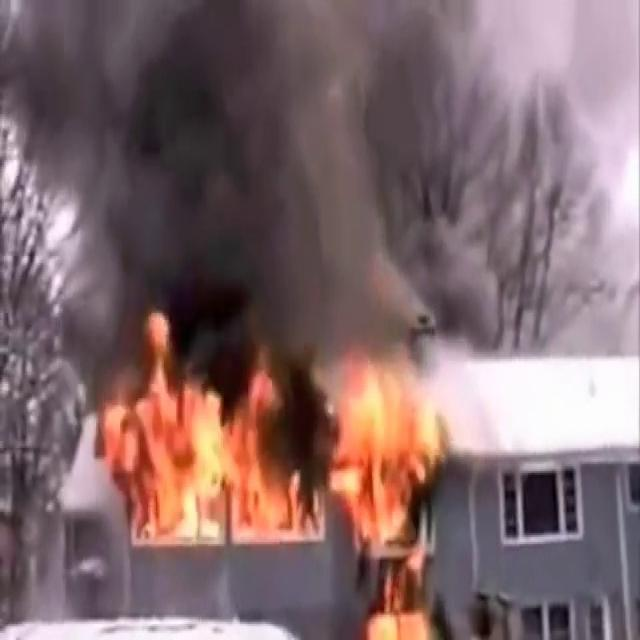Fire: (92, 320, 452, 603)
Smoke: (10, 0, 628, 364)
